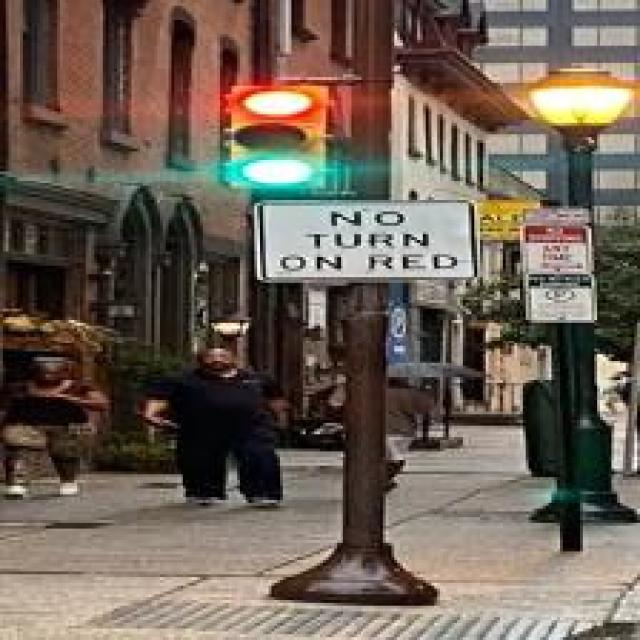green-lights: (239, 150, 318, 193)
red-lights: (237, 83, 318, 123)
